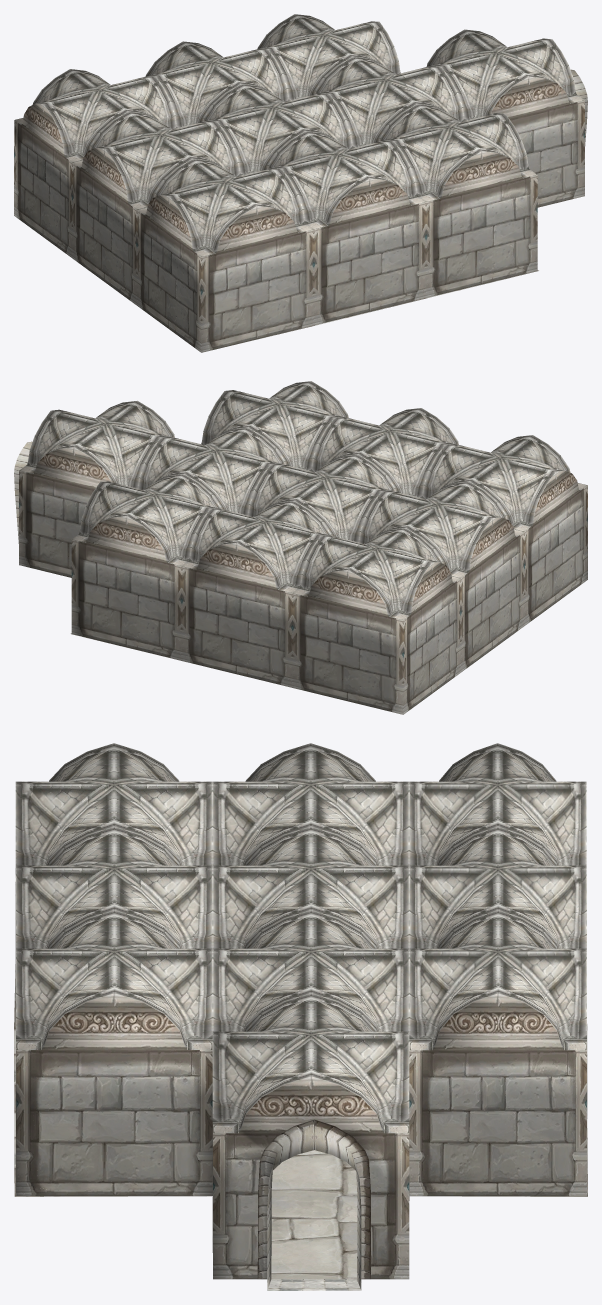
The model's file is stormwind_123.fbx.
The picture shows the model from 3 angles, top to bottom: view 1: azimuth 30°, elevation 25°; view 2: azimuth 150°, elevation 25°; view 3: azimuth 270°, elevation 25°; orthographic projection. The views are drawn at different scales.
Parts seen in each view (by area): view 1: stormwind_123_111, stormwind_123_62; view 2: stormwind_123_111, stormwind_123_62, stormwind_123_107; view 3: stormwind_123_111, stormwind_123_62, stormwind_123_52, stormwind_123_107, stormwind_123_112.
Boxes of the visible parts, x1,y1,x2,y2 form: stormwind_123_111: [14, 14, 584, 256]; stormwind_123_62: [14, 76, 584, 352]; stormwind_123_111: [19, 381, 587, 620]; stormwind_123_62: [19, 447, 587, 714]; stormwind_123_107: [14, 441, 32, 543]; stormwind_123_111: [15, 743, 586, 1133]; stormwind_123_62: [15, 872, 587, 1279]; stormwind_123_52: [14, 964, 587, 1279]; stormwind_123_107: [257, 1119, 370, 1289]; stormwind_123_112: [267, 1279, 360, 1290].
Size of the model in its own units: 39.69 by 10.72 by 27.48.
